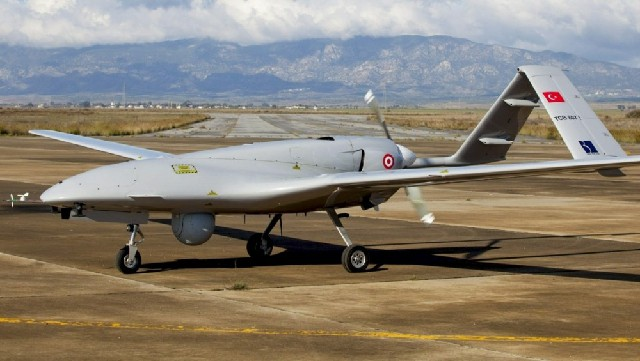maybay_khongnguoilai: (14, 70, 640, 268)
